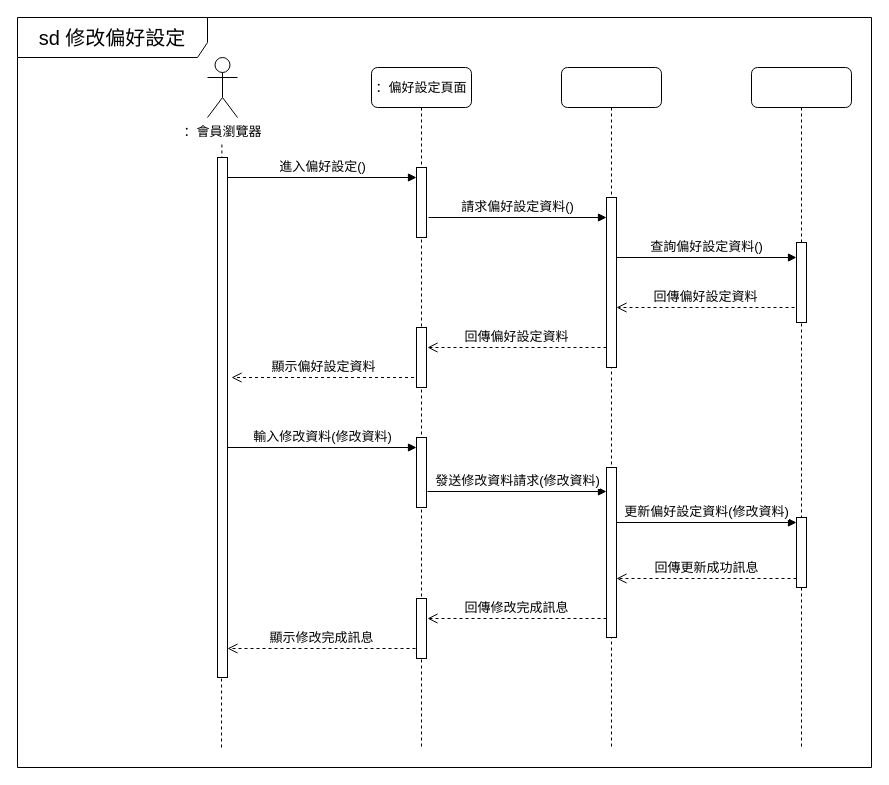
The diagram is 889 pixels wide and 785 high, and some of its shapes have lost their labels. The shapes that lost their labels are listed below. From the top down, each one's box as (x1, y1, x2, y2) in pixels, then its label:
(560, 66, 662, 748): ：偏好設定管理
(750, 66, 852, 748): ：資料庫存取
